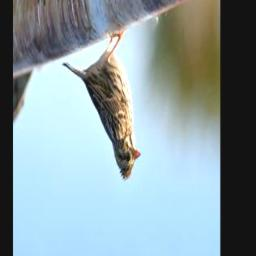Sparrow: (62, 31, 142, 182)
